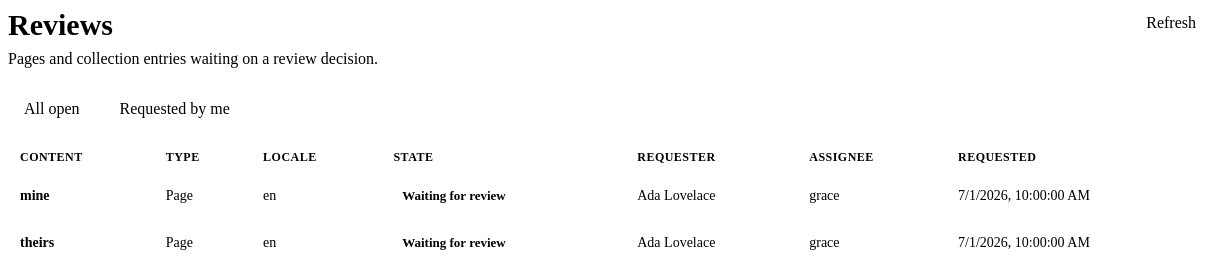
Scenario: ReviewsInbox › filters to reviews requested by the current user
The image size is (1213, 267).
What coordinates should you click on to do the following:
click the button "Requested by me"
I would click on:
 (175, 109)
Its box is [104,92,246,126].
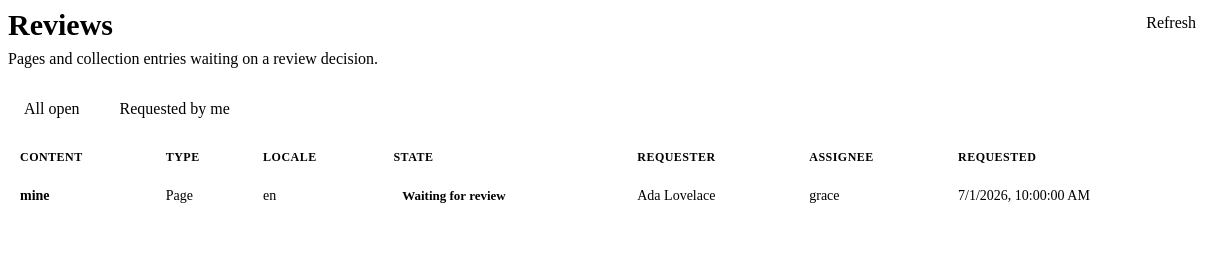
Expected: the row that starts with "mine" is shown, [20,188,50,203]
Now the link "theirs" no longer shows "theirs"
